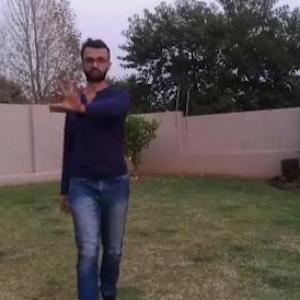follow_hand: (50, 68, 90, 112)
